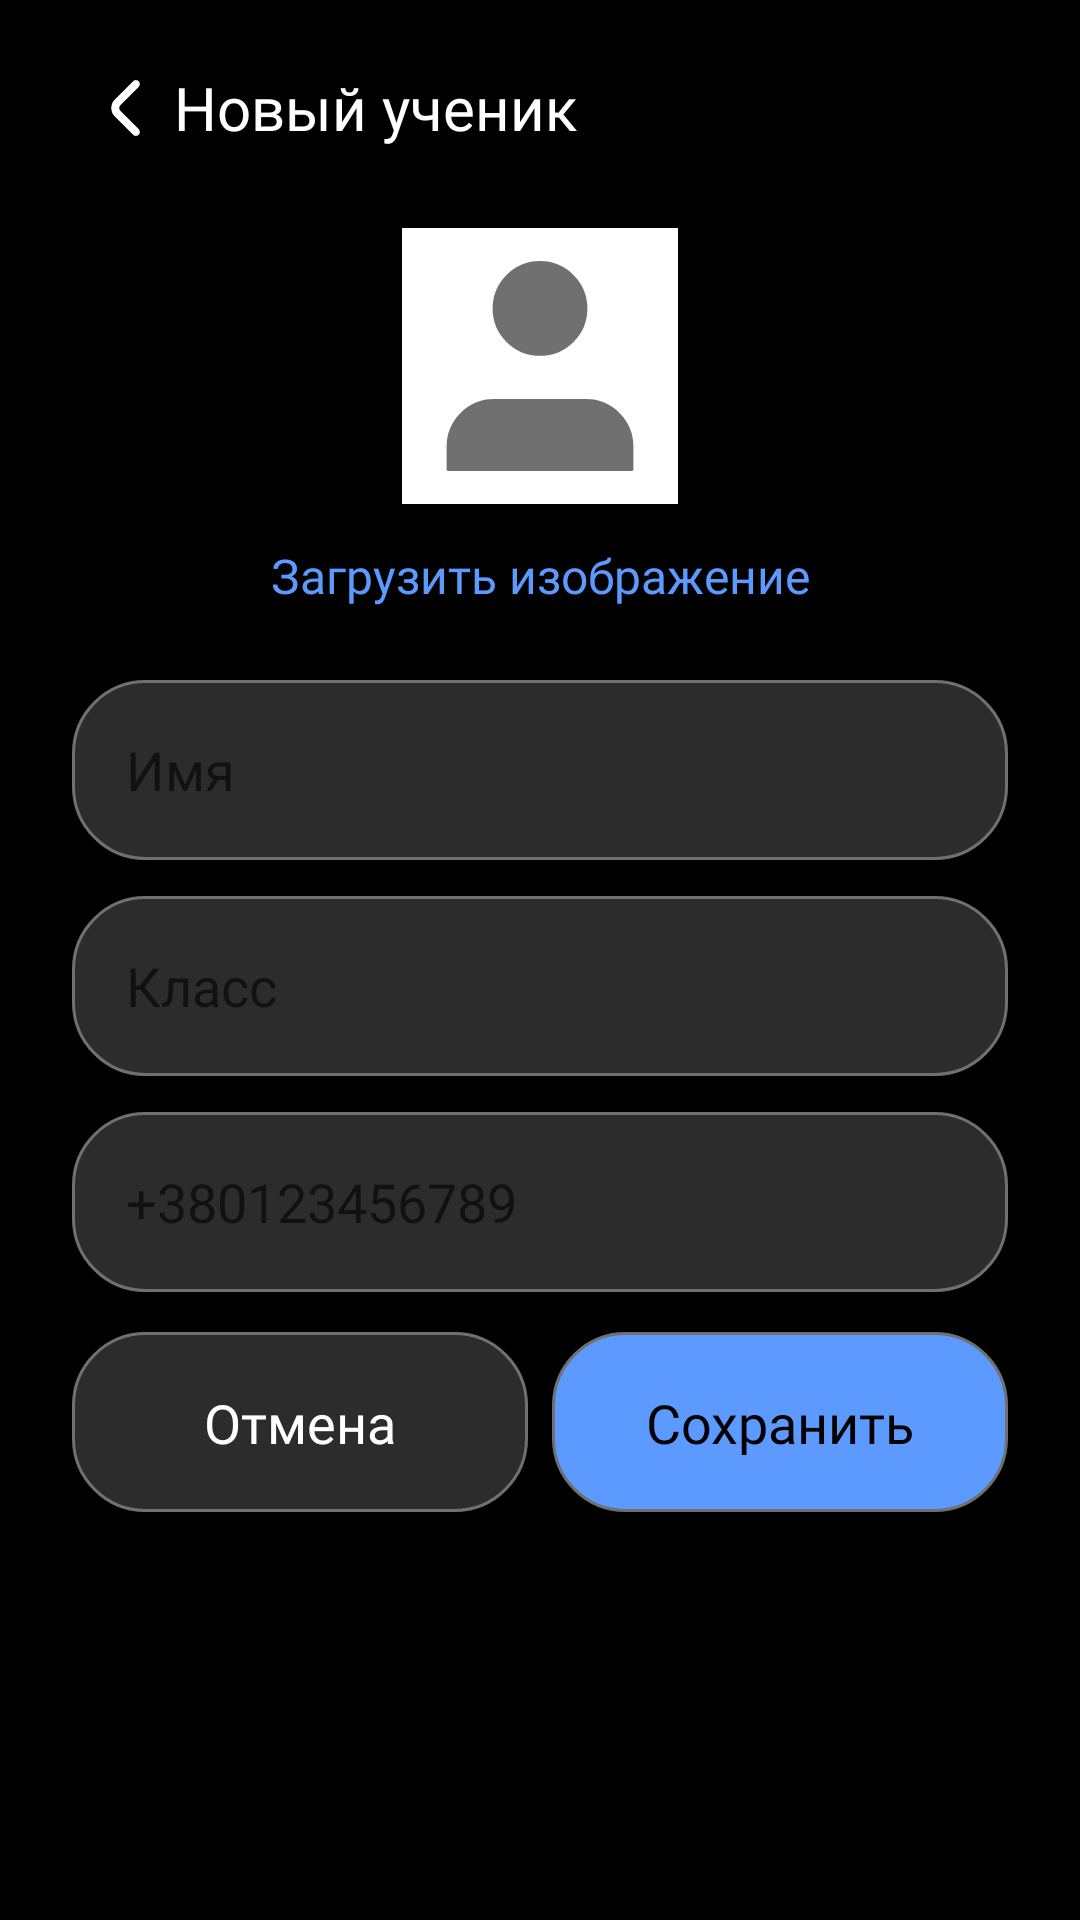

Point at icon controls on the screen. Image size 1080*1920, points as (x,y).
user photo: (540,366)
